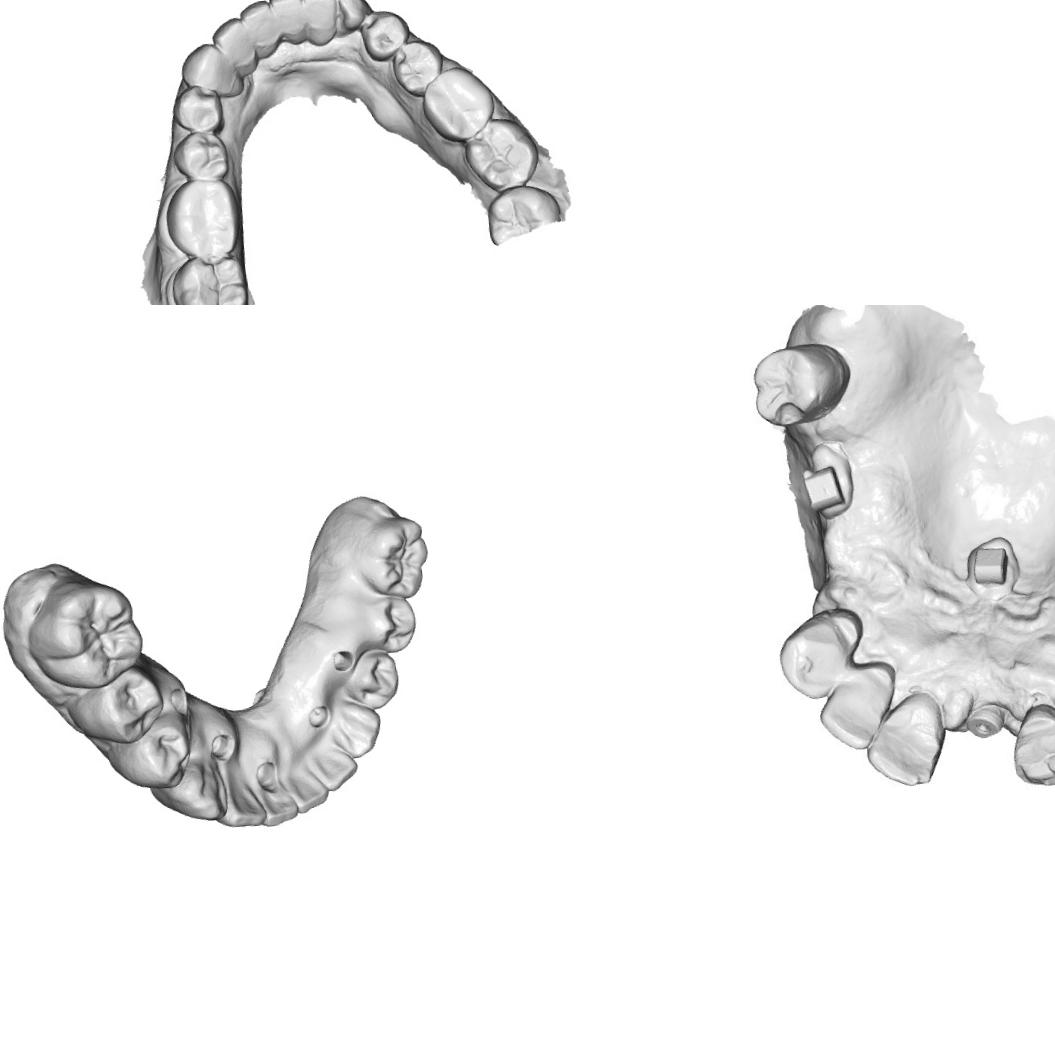canine: (770, 613, 860, 706), (174, 38, 246, 101), (168, 761, 227, 825), (328, 696, 384, 761), (331, 0, 376, 38)
implant: (965, 696, 1010, 743)
incisor: (858, 694, 949, 794), (816, 666, 898, 756), (1002, 705, 1055, 793), (216, 767, 268, 834), (209, 15, 260, 80), (236, 0, 282, 63), (286, 766, 333, 816), (312, 743, 360, 791), (266, 0, 310, 52), (256, 776, 298, 830), (298, 0, 340, 49)
molar: (18, 571, 150, 698), (745, 341, 853, 432), (160, 173, 248, 268), (347, 511, 434, 600), (460, 112, 543, 196), (418, 62, 498, 148), (167, 250, 253, 305)
premolar: (121, 707, 198, 792), (85, 669, 165, 747), (354, 591, 422, 660), (341, 646, 403, 712), (168, 127, 232, 187), (388, 37, 448, 100), (168, 80, 227, 138), (357, 6, 414, 66)
